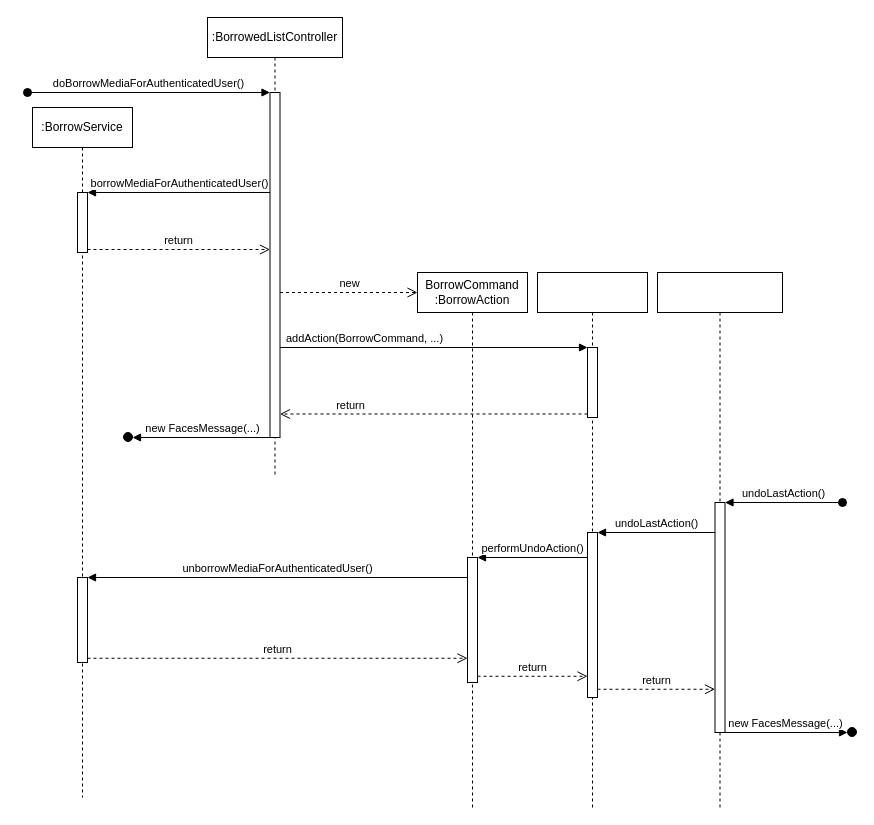
Some shapes in this 874 by 825 pixel diagram are drawn without their labels. The shapes that lost their labels are listed below. From the top down, each one's centre as x and y in pixels, then its label:
At (x=592, y=540): ":UndoRedoService".
At (x=719, y=540): ":UndoRedoController".
